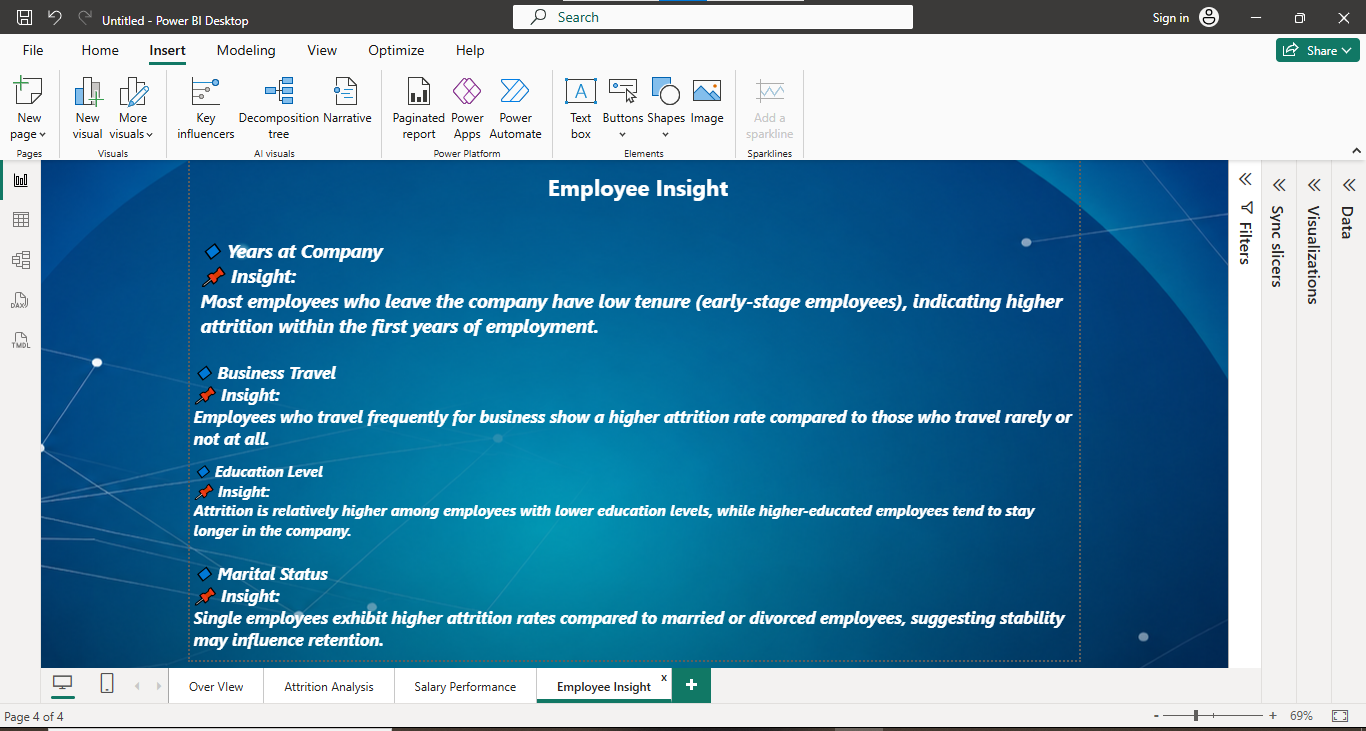

The page's visual inventory and layout, read from the dashboard file:
{"tool":"powerbi","page":{"name":"Employee Insight","canvas":[1280,720],"ordinal":3},"visuals":[{"type":"textbox","box":[10.1,11.5,1270.1,57.6],"z":0},{"type":"textbox","box":[10.3,106,1269.7,162.3],"z":7},{"type":"textbox","box":[0,283.7,1280,145.3],"z":8},{"type":"textbox","box":[0,428.9,1280,143.6],"z":9},{"type":"textbox","box":[0,572.5,1280,147],"z":10}]}

Visuals, with their boxes on the page's 1280x720 design canvas (x1, y1, x2, y2). These are canvas units, not pixel positions in the 1366x731 screenshot, which may show the page scaled, cropped or inside an application window:
textbox: <box>10,12,1280,69</box>
textbox: <box>10,106,1280,268</box>
textbox: <box>0,284,1280,429</box>
textbox: <box>0,429,1280,572</box>
textbox: <box>0,572,1280,720</box>
